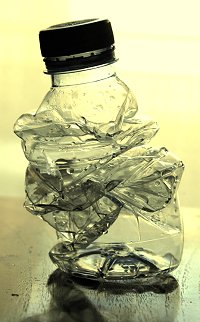plastic_bottle: (8, 8, 192, 317)
